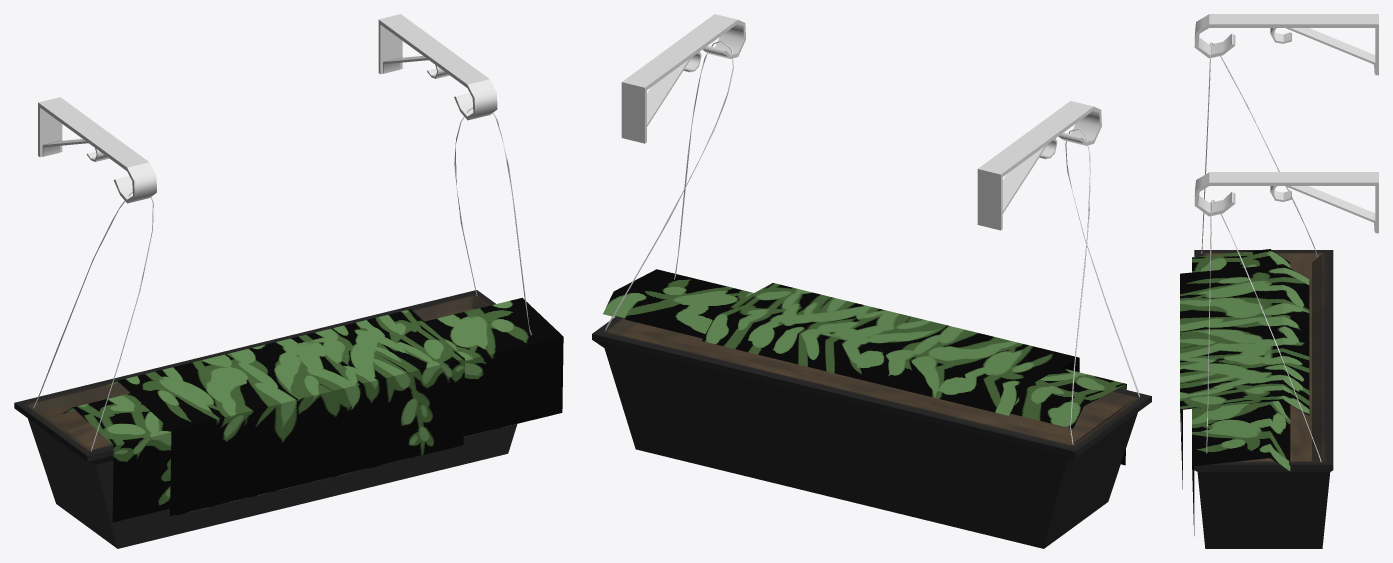
Rendered from hanging plant 2.fbx.
3 views of the same model, side by side, from view 1: azimuth 30°, elevation 25°; view 2: azimuth 150°, elevation 25°; view 3: azimuth 270°, elevation 25° (orthographic). The views are drawn at different scales.
Visible parts, largest first — view 1: Plane.031, Cube.060, Plane.033, Cube.061, Cube.025, BézierCurve.008; view 2: Cube.060, Plane.031, Plane.033, Cube.061, Cube.025, BézierCurve.008; view 3: Cube.060, Plane.031, Plane.033, Cube.025, Cube.061, BézierCurve.008.
Part boxes in pixels (x1,y1,x2,y2): Plane.031: (105, 309, 464, 516); Cube.060: (14, 290, 517, 548); Plane.033: (63, 297, 563, 522); Cube.061: (378, 14, 497, 120); Cube.025: (38, 97, 156, 203); BézierCurve.008: (33, 107, 531, 451); Cube.060: (592, 316, 1151, 548); Plane.031: (702, 283, 1079, 415); Plane.033: (603, 269, 1126, 465); Cube.061: (621, 14, 745, 143); Cube.025: (977, 101, 1101, 230); BézierCurve.008: (605, 40, 1139, 444); Cube.060: (1194, 250, 1333, 548); Plane.031: (1180, 264, 1309, 489); Plane.033: (1192, 249, 1290, 535); Cube.025: (1194, 14, 1378, 75); Cube.061: (1194, 172, 1378, 233); BézierCurve.008: (1201, 42, 1321, 461).
Bounding box in the file's own units: 188 × 143 × 71.74.
3 materials, 2 textured.
